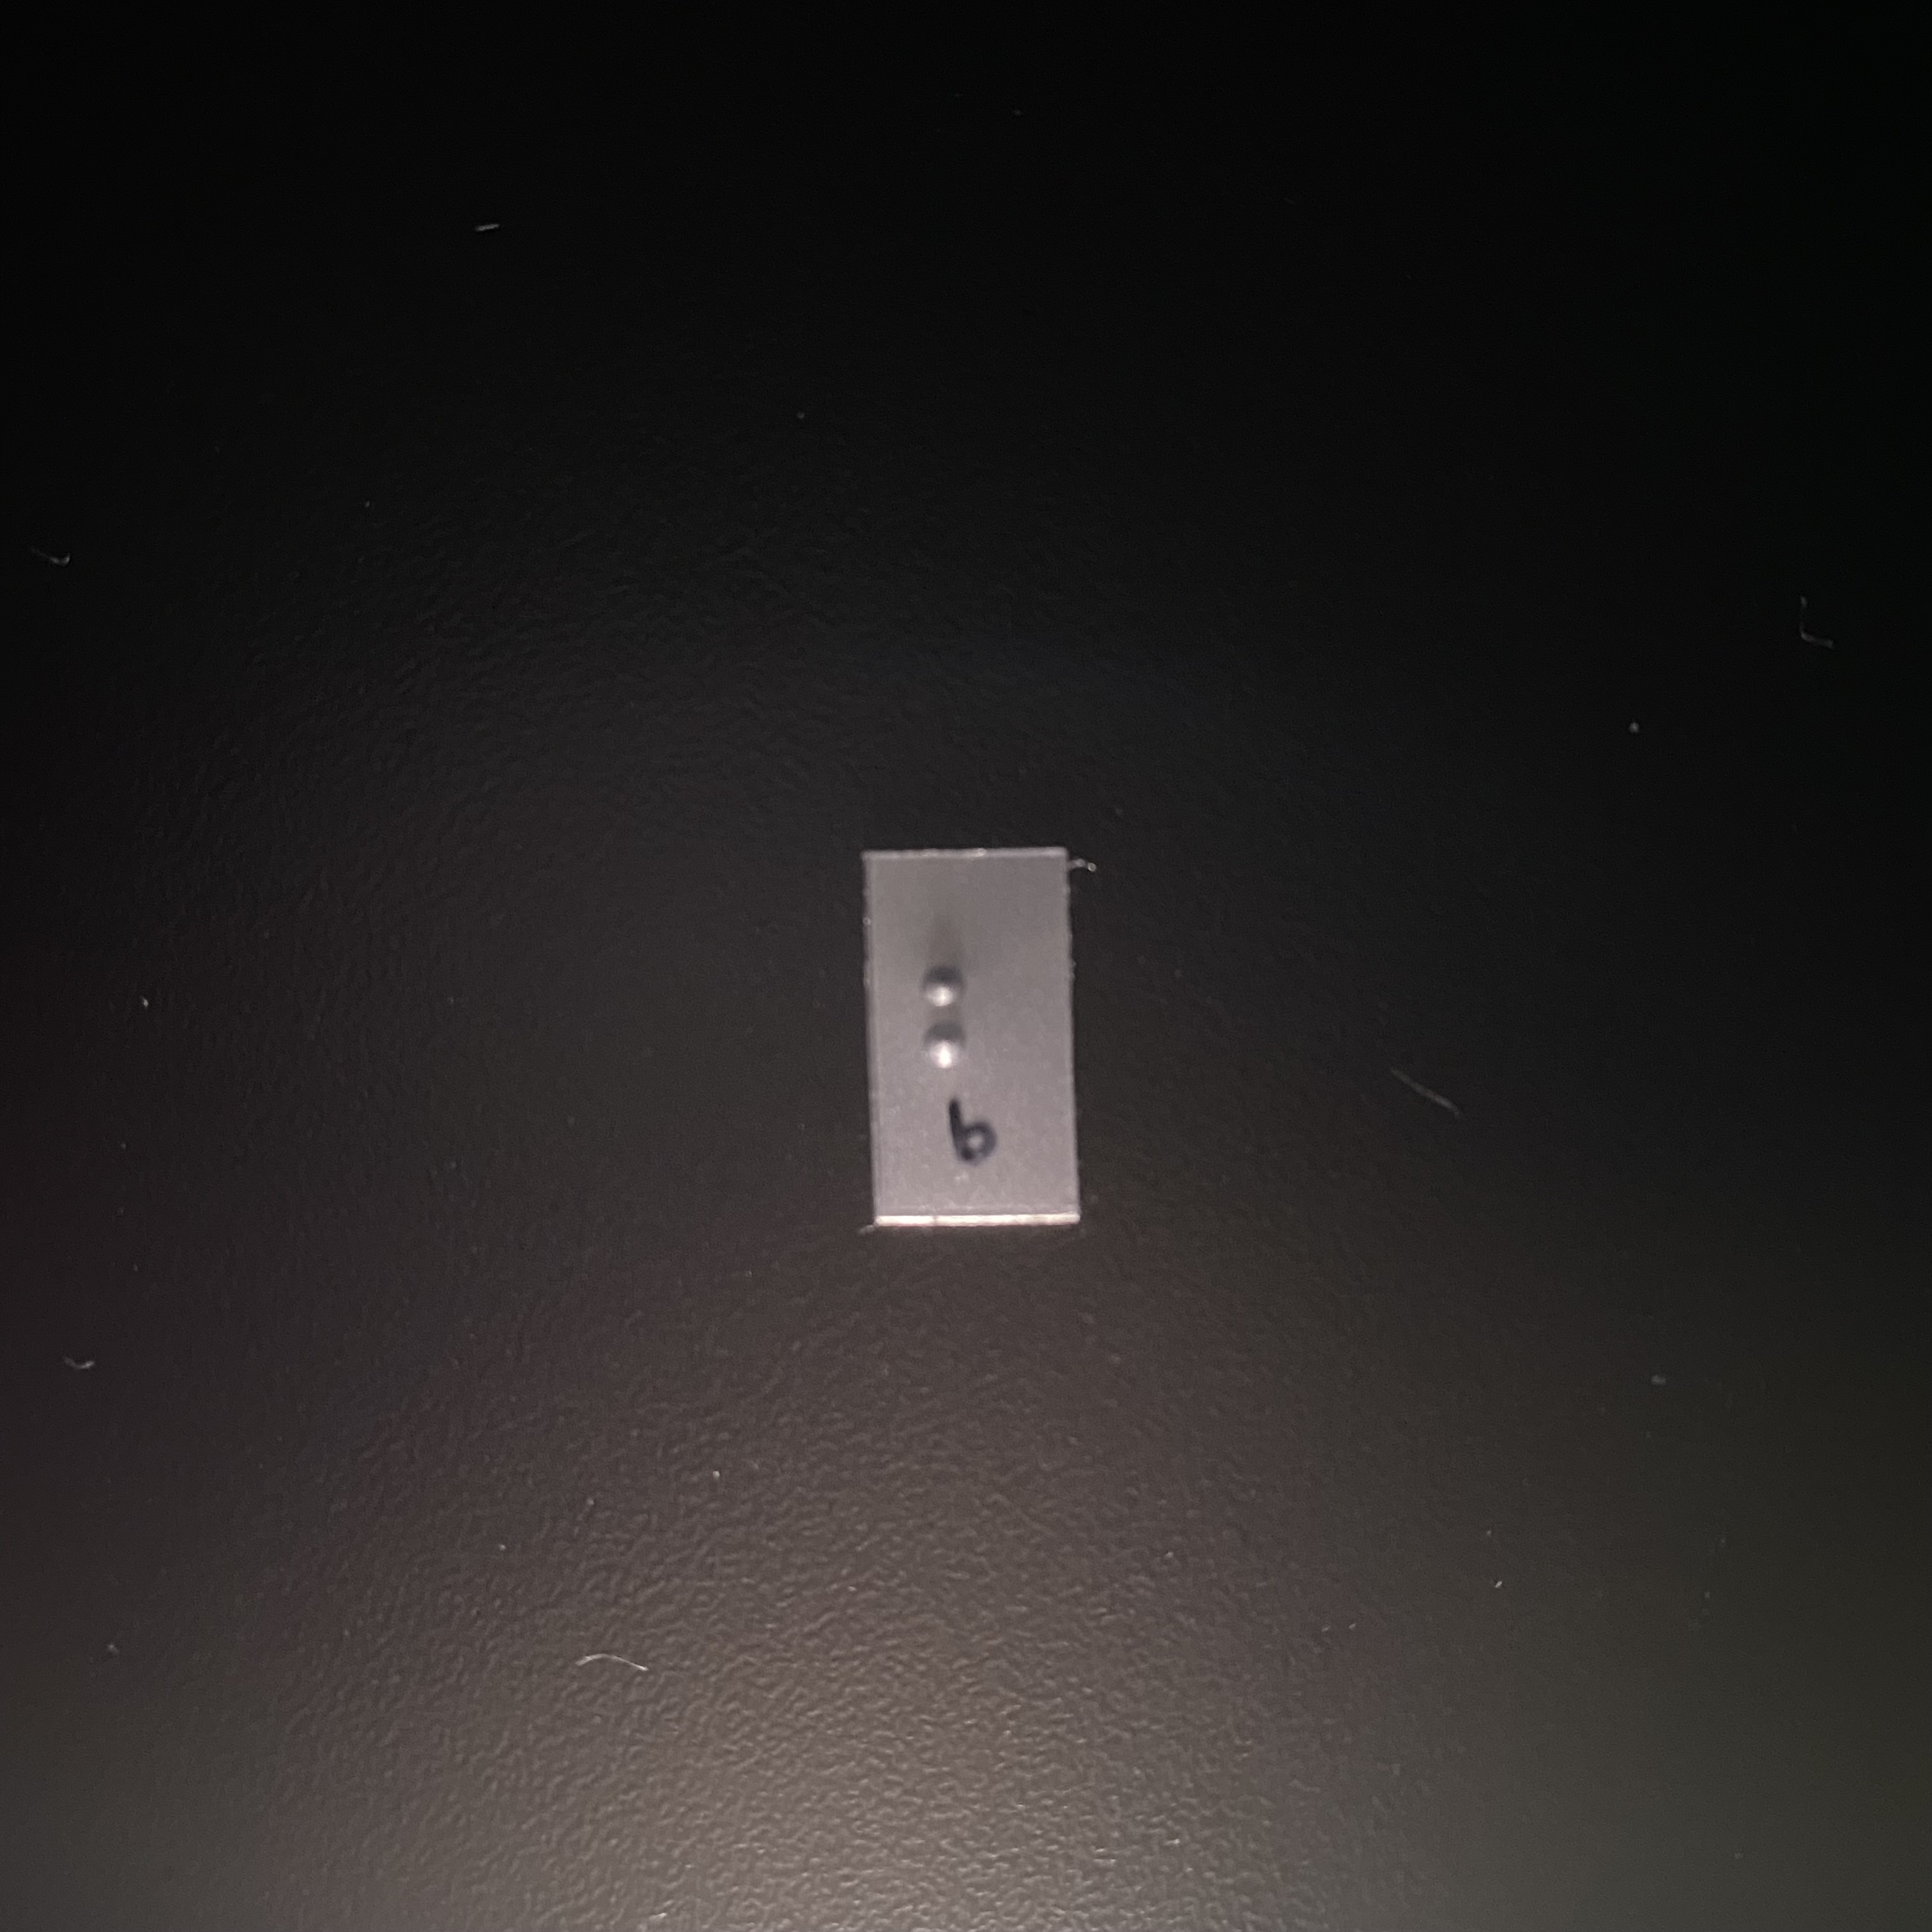b: (910, 949, 1038, 1167)
